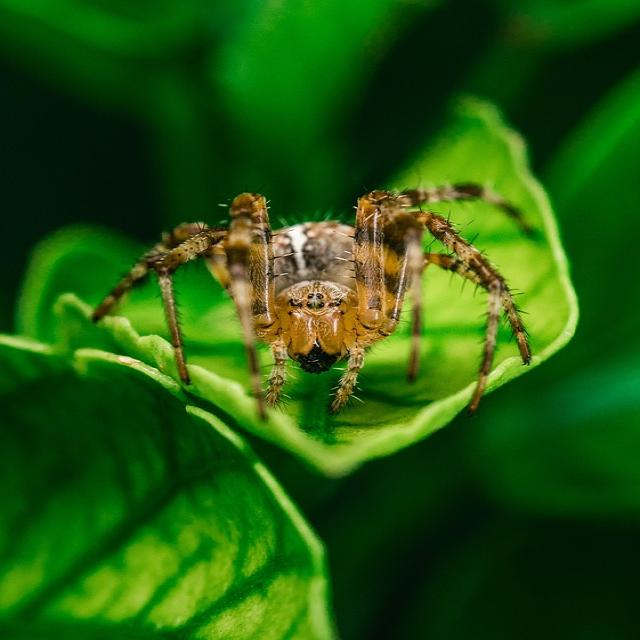spyder: (95, 189, 533, 414)
